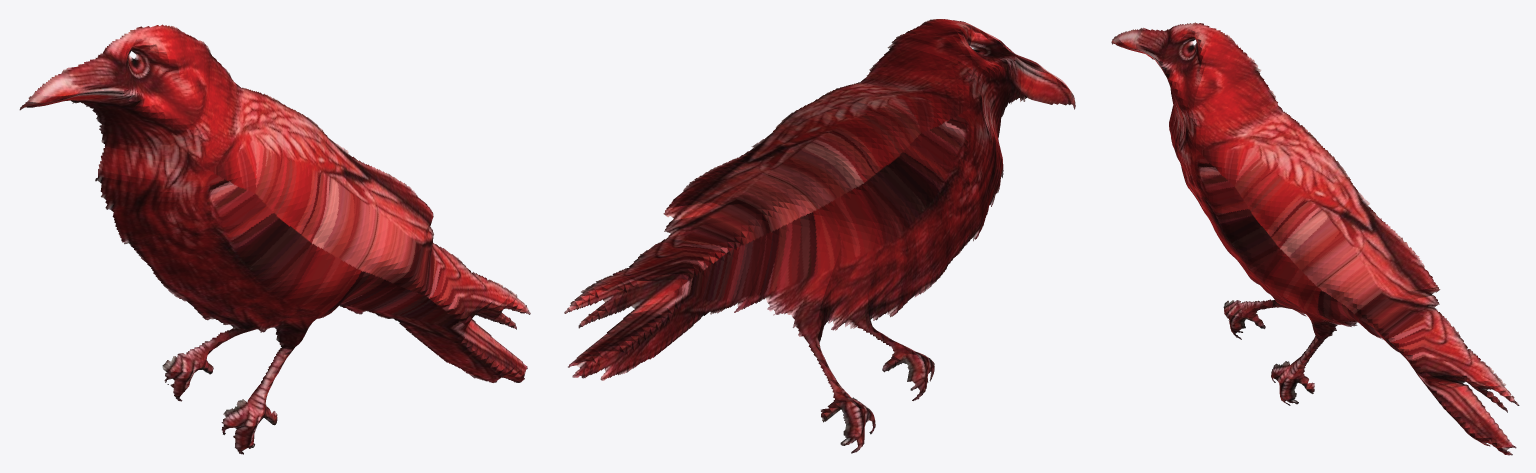
The model's file is subject_torso.obj.
3 renders of one model, left to right at view 1: azimuth 30°, elevation 25°; view 2: azimuth 150°, elevation 25°; view 3: azimuth 330°, elevation 25°, orthographic. The views are drawn at different scales.
Parts seen in each view (by area): view 1: subject_torso; view 2: subject_torso; view 3: subject_torso.
Boxes of the visible parts, x1,y1,x2,y2 form: subject_torso: (19,24,530,454); subject_torso: (564,19,1075,453); subject_torso: (1111,22,1519,455).
Bounding box in the file's own units: 1.98 × 1.69 × 0.2789.
Materials: 1 (1 with a texture image).
